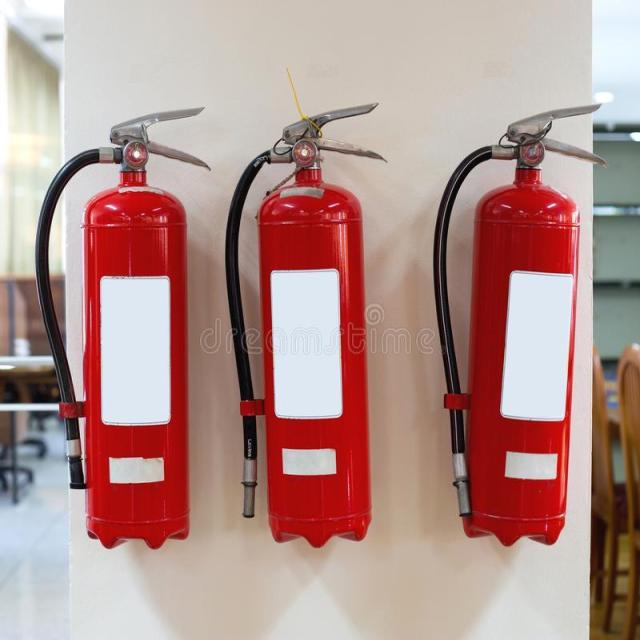fire_extinguisher: (30, 102, 212, 554), (428, 99, 607, 550), (222, 98, 390, 550)
